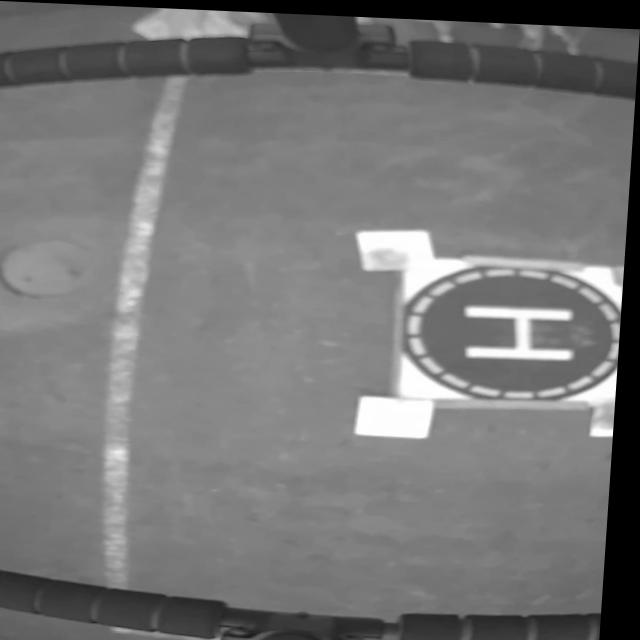Helipad: (466, 299, 578, 355)
